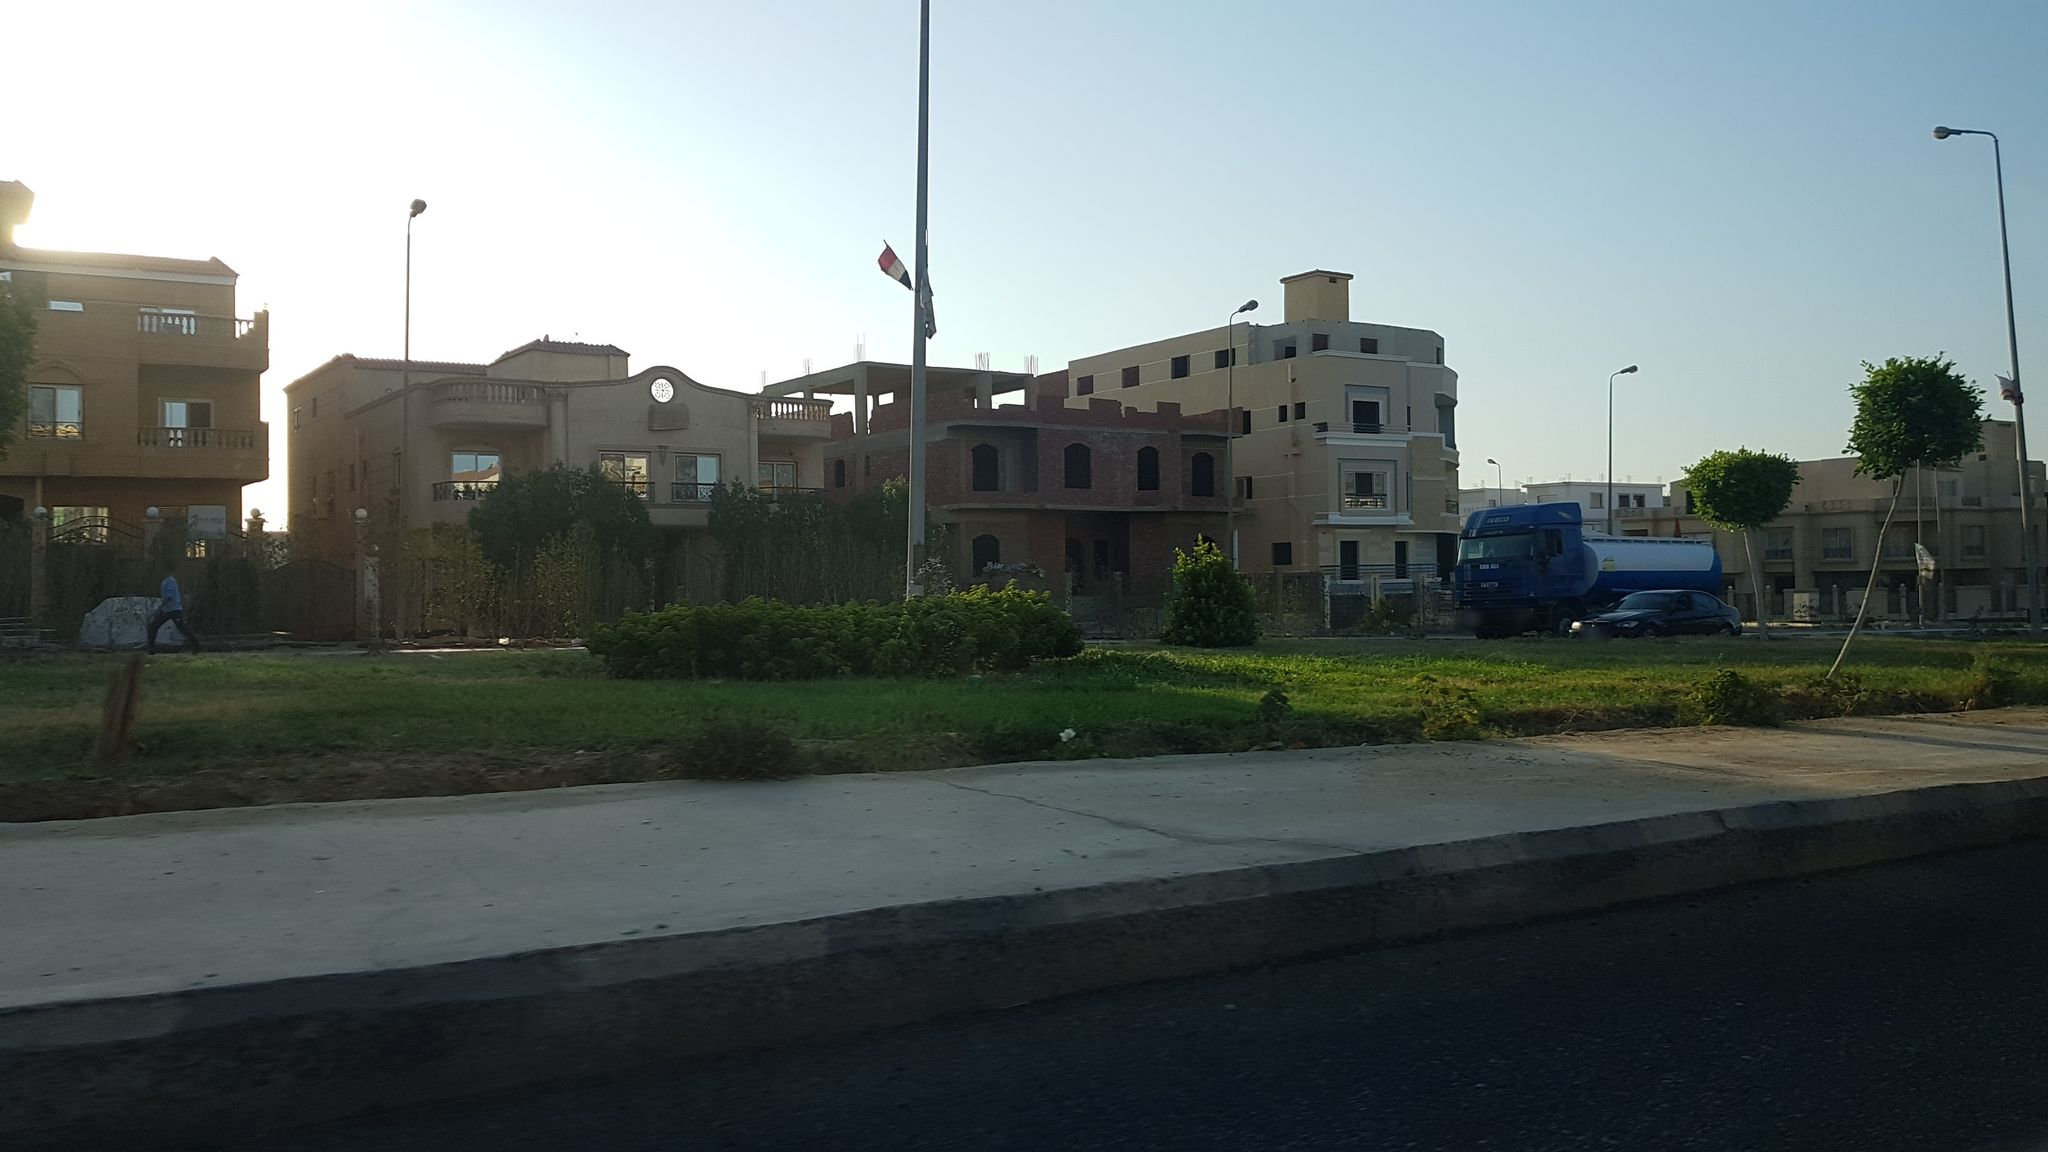car: (1567, 589, 1744, 640)
truck: (1454, 499, 1723, 636)
